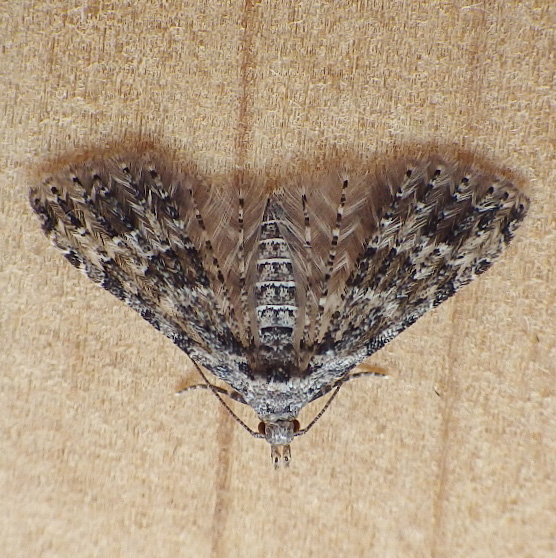Alucitidae: (25, 136, 532, 470)
moth: (27, 138, 534, 472)
